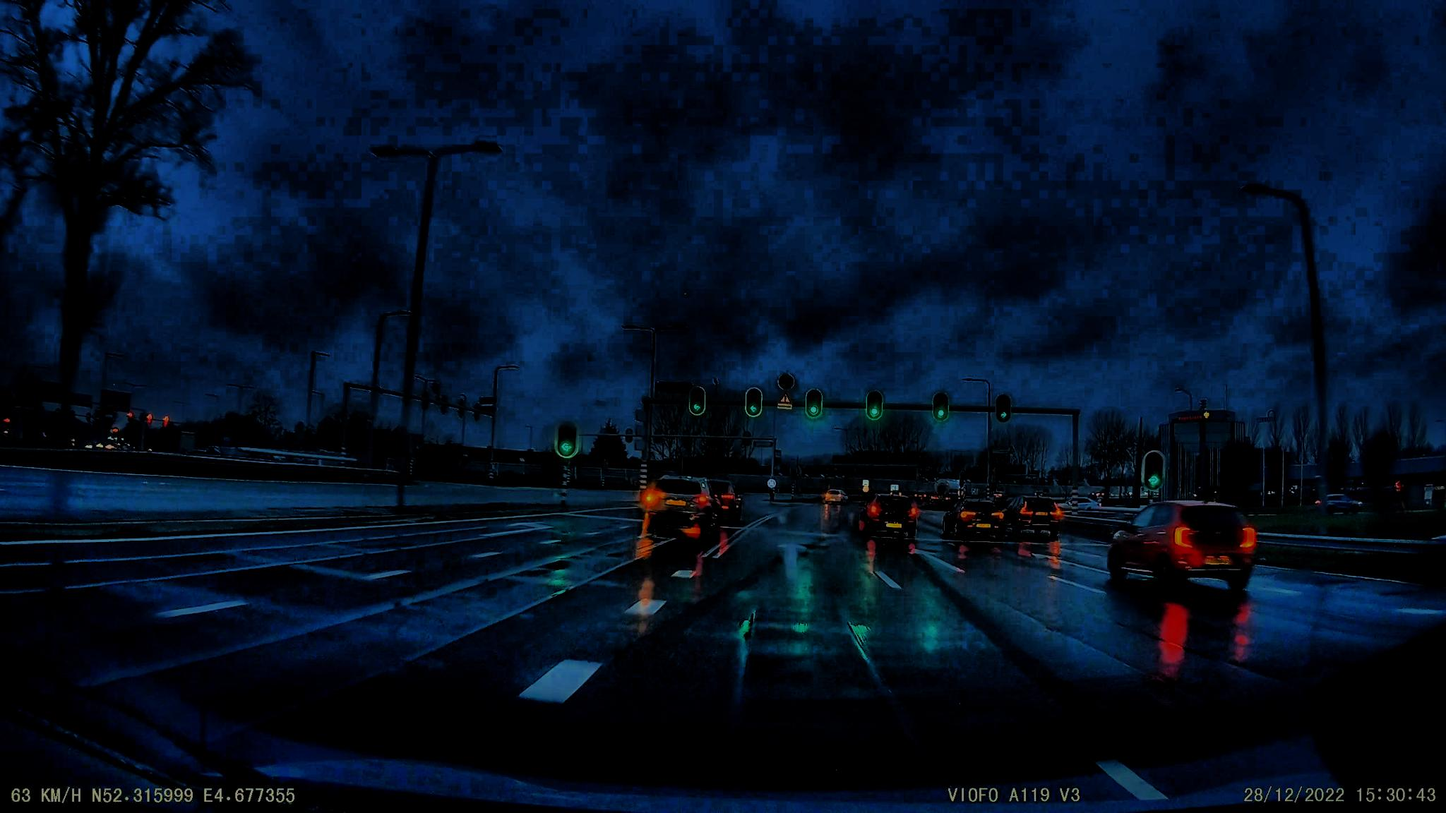Roads: (31, 513, 1446, 813)
